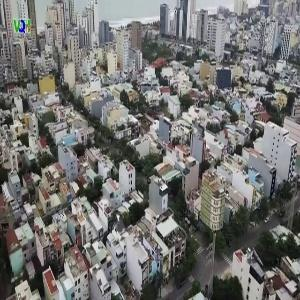drone: (94, 196, 154, 256)
